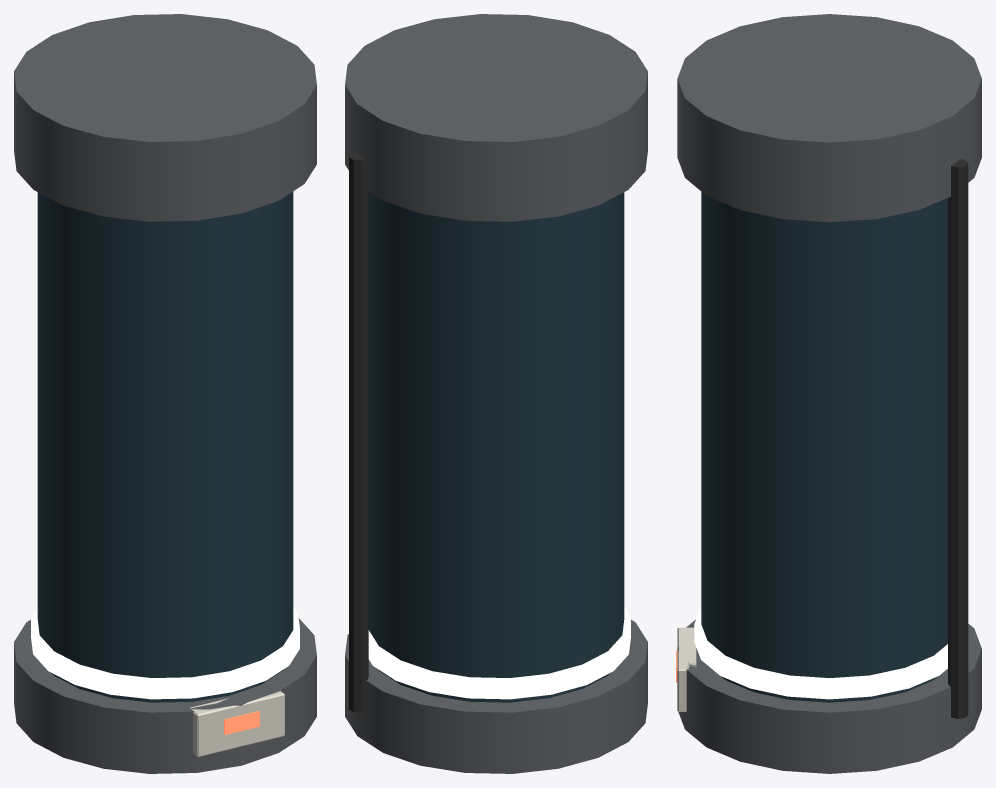
File: cryo_pod.glb
The picture shows the model from 3 angles, left to right: view 1: azimuth 30°, elevation 25°; view 2: azimuth 150°, elevation 25°; view 3: azimuth 270°, elevation 25°; orthographic projection.
Visible parts, largest first — view 1: cryo_pod; view 2: cryo_pod; view 3: cryo_pod.
Part boxes in pixels (box(x1,y1,x2,y2)): cryo_pod: box(14, 14, 316, 773); cryo_pod: box(345, 14, 647, 773); cryo_pod: box(676, 14, 981, 773).
Bounding box in the file's own units: 0.9 × 2.06 × 0.904.
